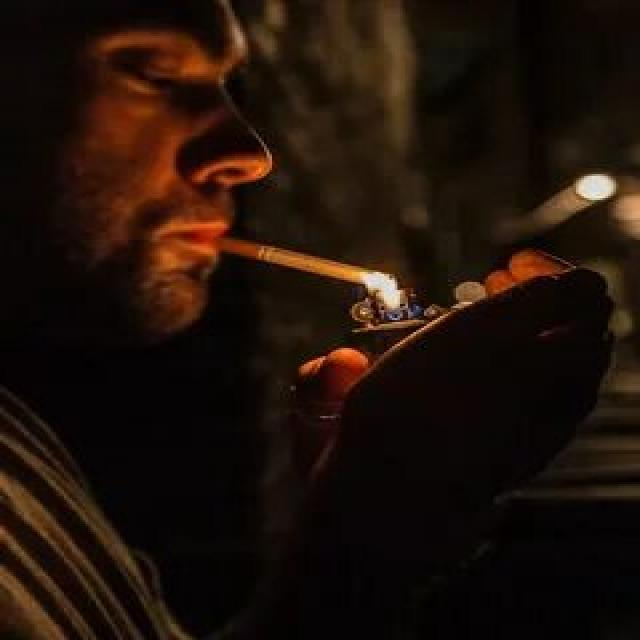smoke: (214, 230, 398, 292)
